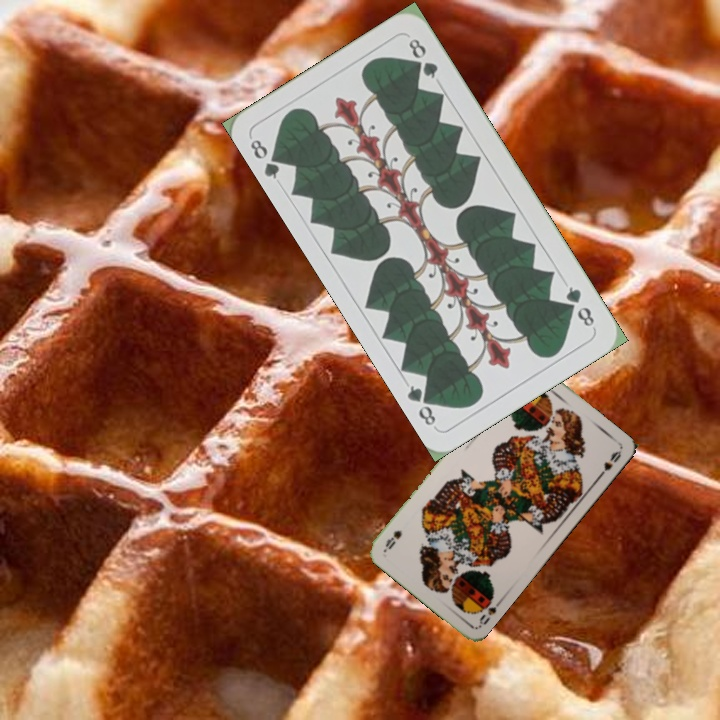G8: (246, 135, 287, 182), (561, 282, 597, 330)
SO: (473, 590, 505, 629)
